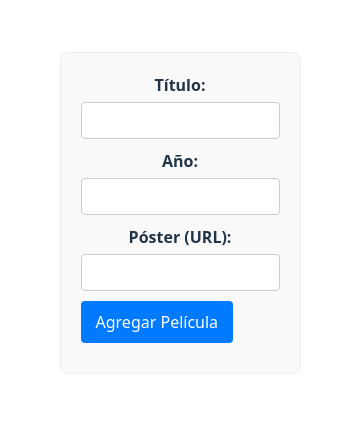
Test case: MovieForm Component › muestra error cuando se envía el formulario con campos vacíos
Click the button "Agregar Película" at (157, 322), box [80,301,233,343]
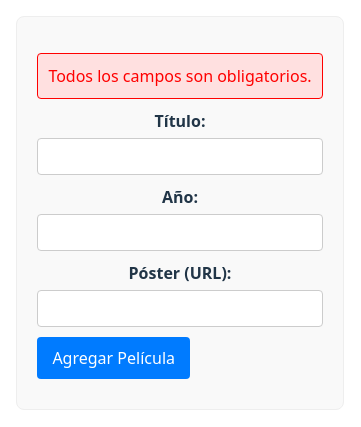
Now the text "Todos los campos son obligatorios." is shown, box [37,53,323,99]
